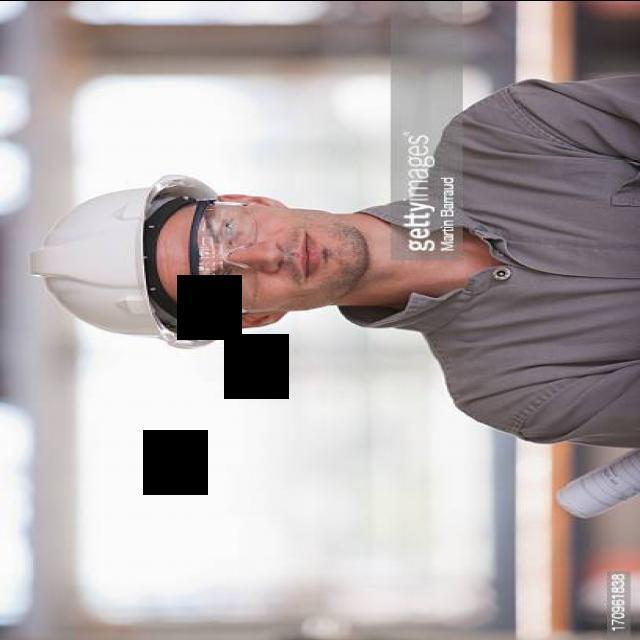white helmet: (31, 174, 219, 352)
